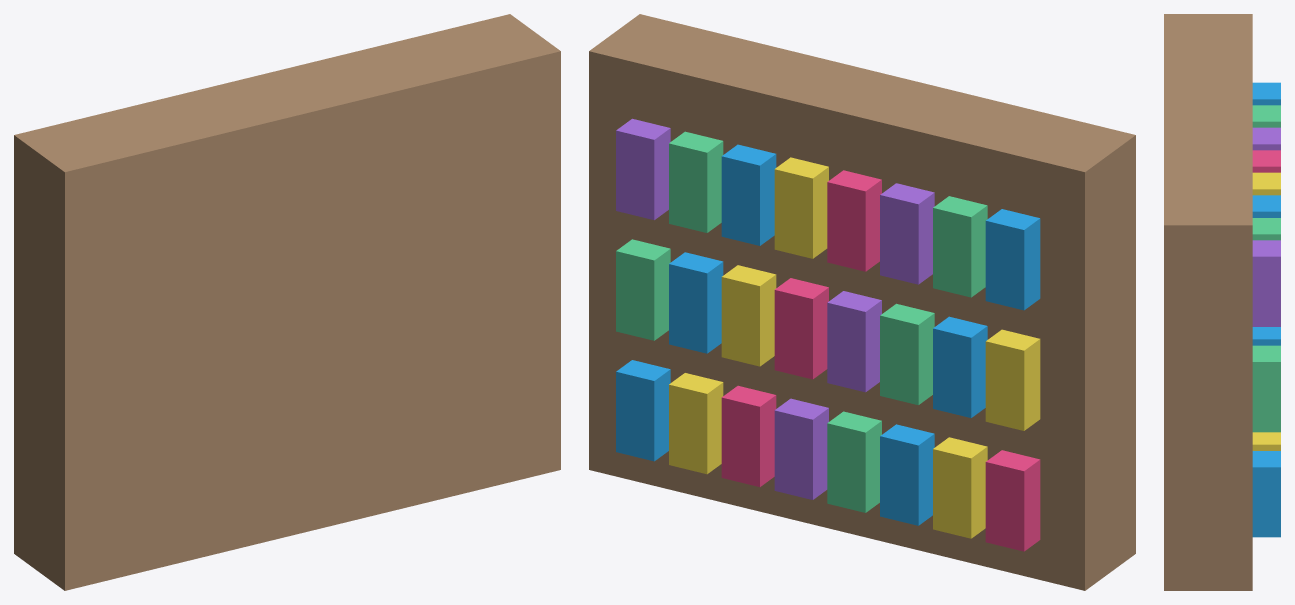
File: bookshelf.glb
3 views of the same model, side by side, from view 1: azimuth 30°, elevation 25°; view 2: azimuth 150°, elevation 25°; view 3: azimuth 270°, elevation 25° (orthographic). The views are drawn at different scales.
Parts seen in each view (by area): view 1: Frame; view 2: Frame, Book0_0, Book1_0, Book2_0, Book2_5, Book0_5, Book1_5, Book0_4, Book2_4, Book1_4, Book1_7, Book2_1 (+13 smaller); view 3: Frame, Book1_7, Book2_7, Book0_7, Book2_0, Book2_2, Book2_4, Book2_1, Book2_3, Book2_5, Book2_6, Book0_6 (+1 smaller).
Boxes of the visible parts, left/top/right/bottom form: Frame: left=14, top=14, right=560, bottom=590; Frame: left=589, top=14, right=1135, bottom=590; Book0_0: left=985, top=450, right=1040, bottom=551; Book1_0: left=985, top=329, right=1040, bottom=430; Book2_0: left=985, top=209, right=1040, bottom=310; Book2_5: left=721, top=144, right=776, bottom=245; Book0_5: left=721, top=385, right=776, bottom=486; Book1_5: left=721, top=265, right=776, bottom=366; Book0_4: left=774, top=398, right=828, bottom=499; Book2_4: left=774, top=157, right=828, bottom=258; Book1_4: left=774, top=278, right=828, bottom=379; Book1_7: left=616, top=239, right=670, bottom=340; Book2_1: left=933, top=196, right=987, bottom=297; Frame: left=1164, top=14, right=1252, bottom=590; Book1_7: left=1252, top=345, right=1280, bottom=432; Book2_7: left=1252, top=240, right=1280, bottom=326; Book0_7: left=1252, top=451, right=1280, bottom=537; Book2_0: left=1252, top=82, right=1280, bottom=105; Book2_2: left=1252, top=127, right=1280, bottom=150; Book2_4: left=1252, top=172, right=1280, bottom=195; Book2_1: left=1252, top=105, right=1280, bottom=127; Book2_3: left=1252, top=150, right=1280, bottom=172; Book2_5: left=1252, top=195, right=1280, bottom=217; Book2_6: left=1252, top=218, right=1280, bottom=240; Book0_6: left=1252, top=432, right=1280, bottom=450.
Size of the model in its own units: 3.1 by 2.5 by 0.725.
